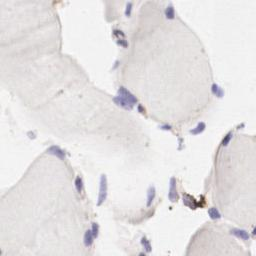nucleus: (96, 174, 108, 205), (44, 144, 65, 159), (168, 175, 179, 203), (112, 97, 134, 110), (119, 88, 138, 103), (228, 226, 248, 240), (190, 121, 206, 134), (147, 184, 156, 207), (141, 235, 152, 253), (74, 174, 83, 194), (208, 208, 221, 221), (92, 221, 100, 239), (83, 229, 92, 245), (124, 2, 134, 16), (165, 6, 175, 19), (222, 132, 232, 145), (159, 124, 172, 131), (212, 82, 218, 96), (219, 87, 226, 98), (184, 198, 192, 206), (235, 123, 244, 130), (117, 40, 127, 45), (112, 62, 120, 68), (112, 29, 124, 33), (252, 227, 256, 234), (138, 106, 142, 111)
positive_cell: (183, 193, 207, 210), (110, 26, 127, 38), (138, 104, 147, 117)
